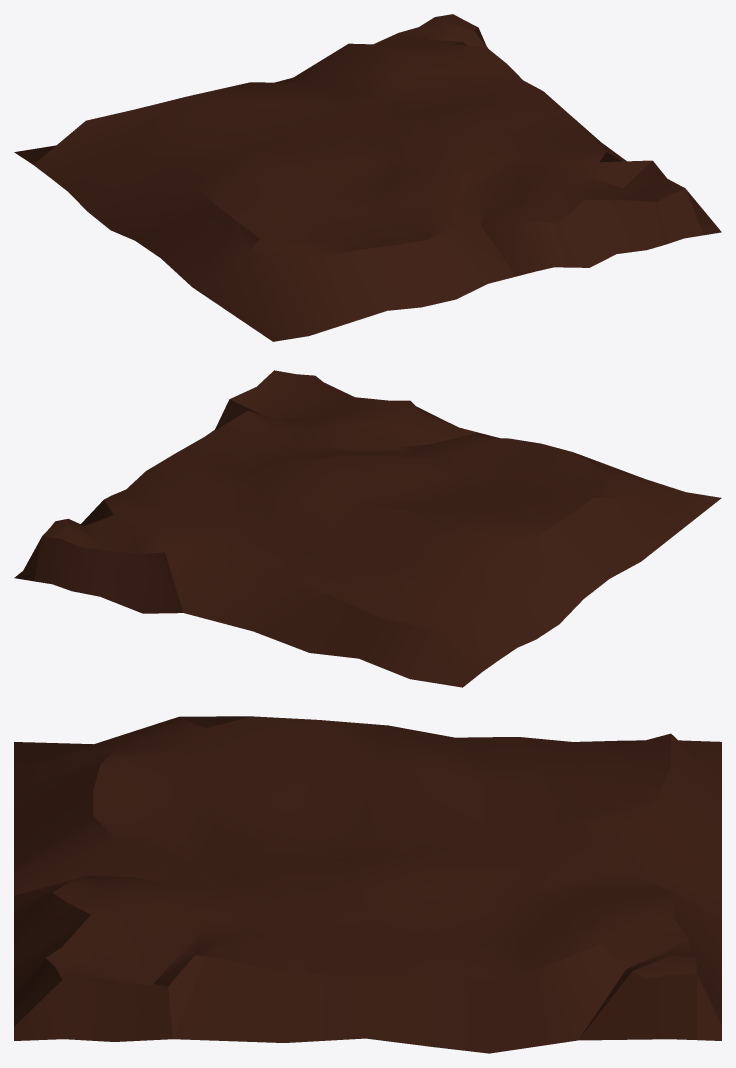
The model's file is Soil.fbx.
3 views of the same model, one above another, from view 1: azimuth 30°, elevation 25°; view 2: azimuth 150°, elevation 25°; view 3: azimuth 270°, elevation 25° (orthographic). The views are drawn at different scales.
Visible parts, largest first — view 1: Soil; view 2: Soil; view 3: Soil.
Boxes of the visible parts, x1,y1,x2,y2 form: Soil: (14, 14, 721, 341); Soil: (14, 370, 721, 687); Soil: (14, 716, 721, 1053).
Size of the model in its own units: 88.05 by 10.22 by 88.05.
1 material, 1 textured.
